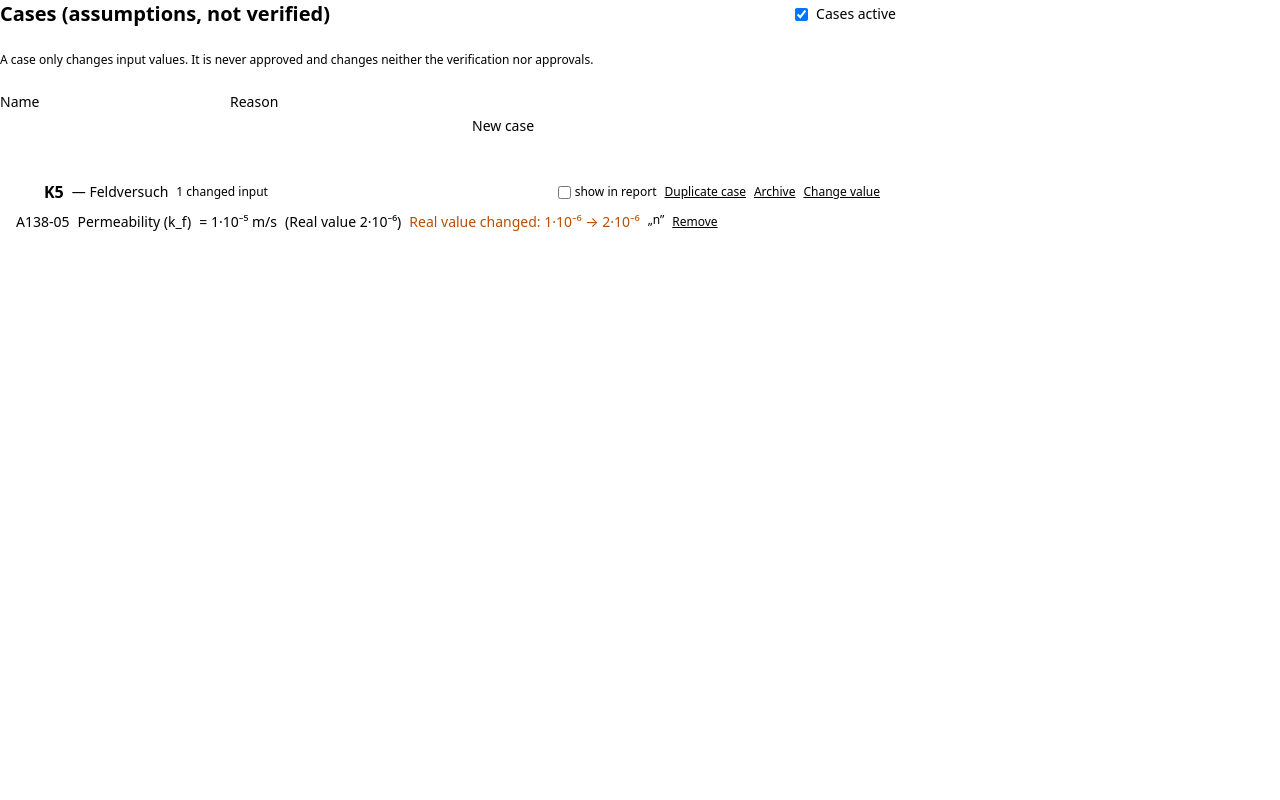
ScenariosPanel › archive confirmation in EN
Click the button "Archive". click: click(775, 192)
box: [754, 184, 795, 200]
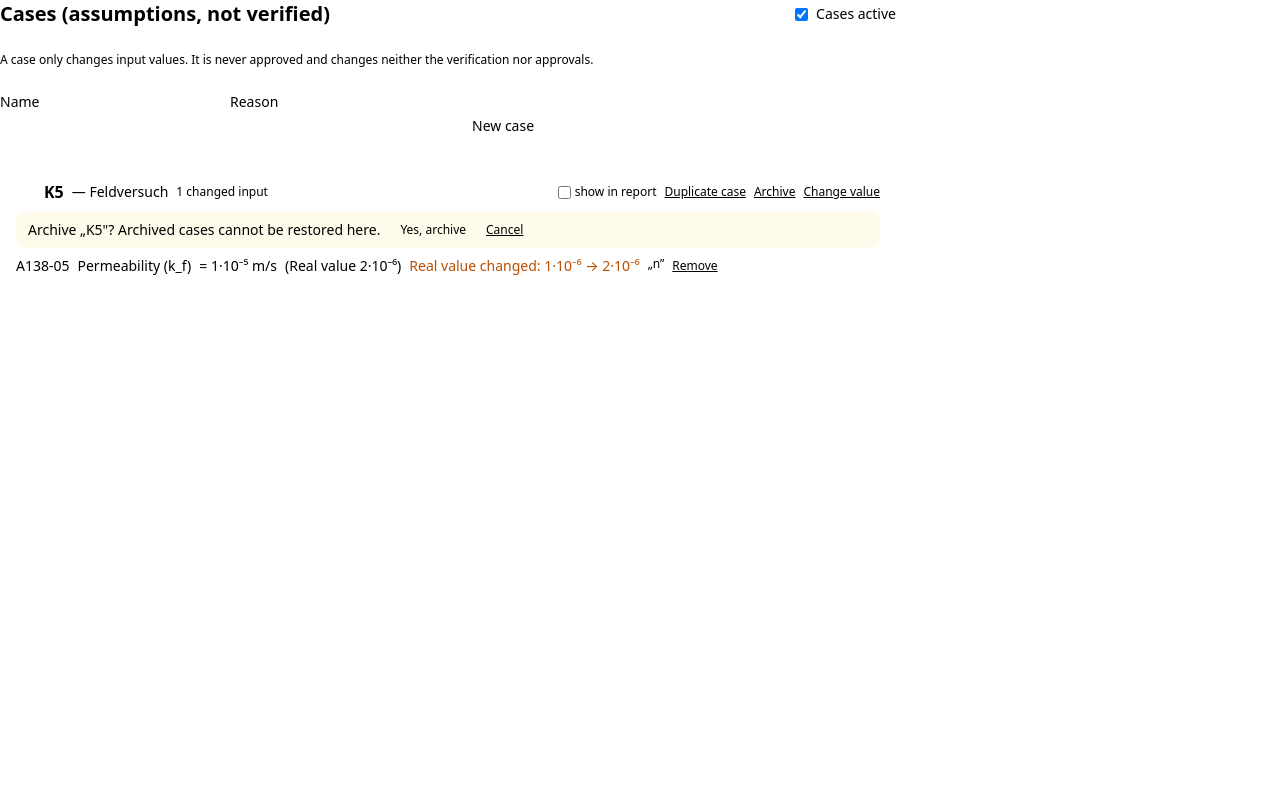
Check: the dialog shows "Archive „K5\"?", box [28, 220, 380, 239]
Check: the button "Yes, archive" is shown, box [388, 220, 478, 240]
Check: the button "Cancel" is shown, box [486, 222, 523, 238]
